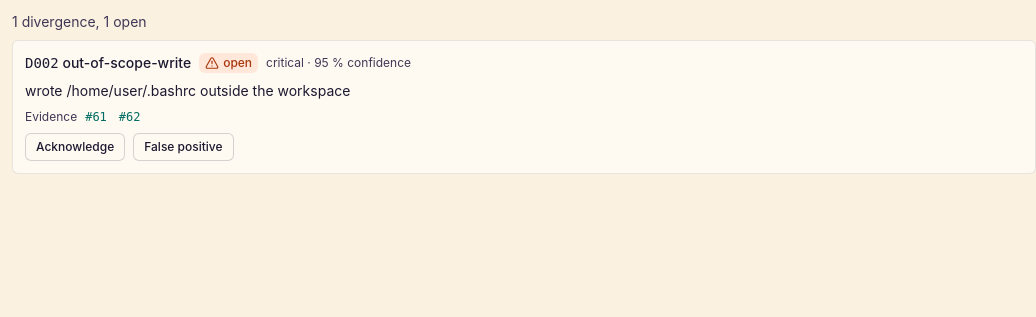
Test case: session divergences › marks a false positive without a note
Click the button "False positive": click(183, 147) [133,133,234,161]
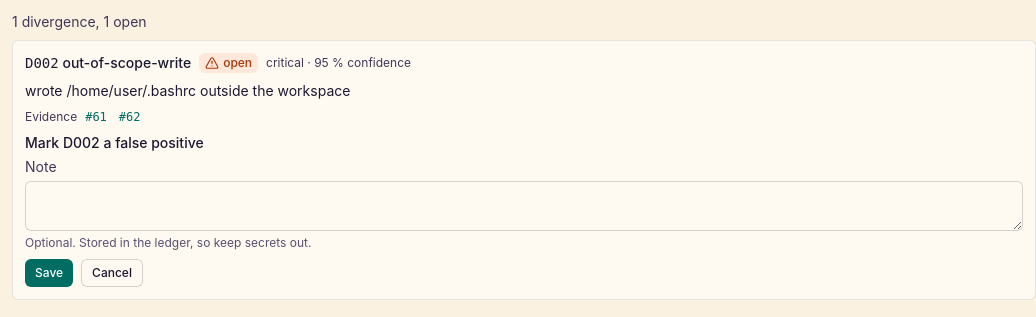
Click the button "Save": click(49, 273) [25,259,73,287]
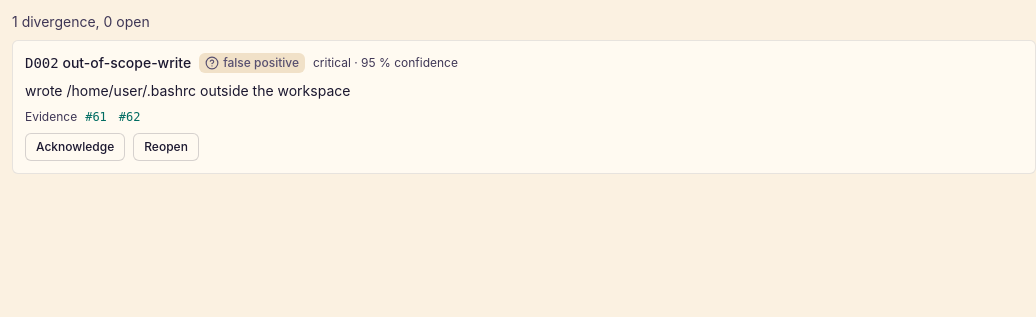
Now the element showing "false positive" is shown, box [199,53,305,73]
